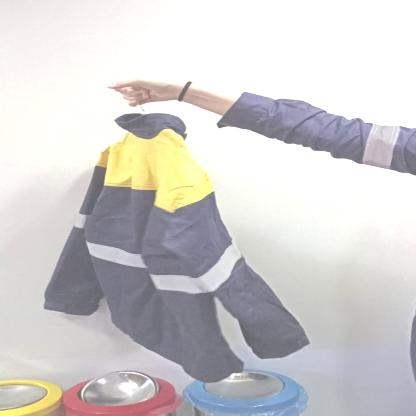C_eletrica: (41, 112, 313, 377)
